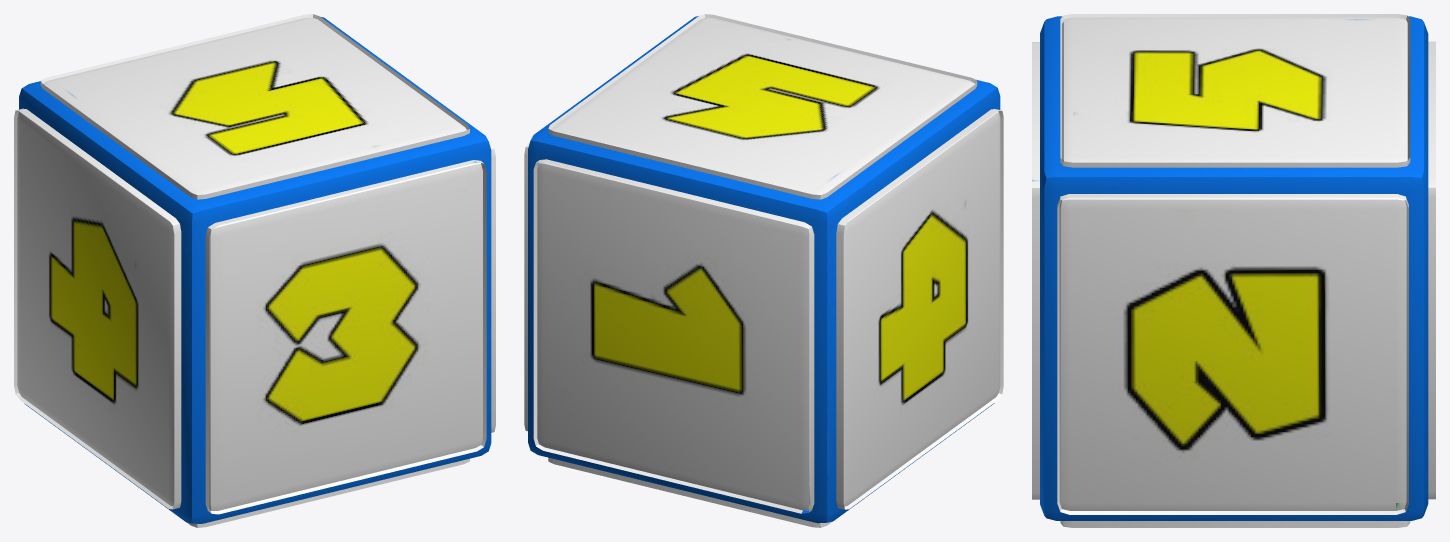
3 renders of one model, left to right at view 1: azimuth 30°, elevation 25°; view 2: azimuth 150°, elevation 25°; view 3: azimuth 270°, elevation 25°, orthographic. The views are drawn at different scales.
Visible parts, largest first — view 1: Box001; view 2: Box001; view 3: Box001.
Part boxes in pixels (x1=…): Box001: x1=14, y1=14, x2=495, y2=527; Box001: x1=524, y1=14, x2=1003, y2=527; Box001: x1=1032, y1=14, x2=1435, y2=527.
Size of the model in its own units: 31.4 by 31.16 by 31.2.
1 material, 1 textured.
